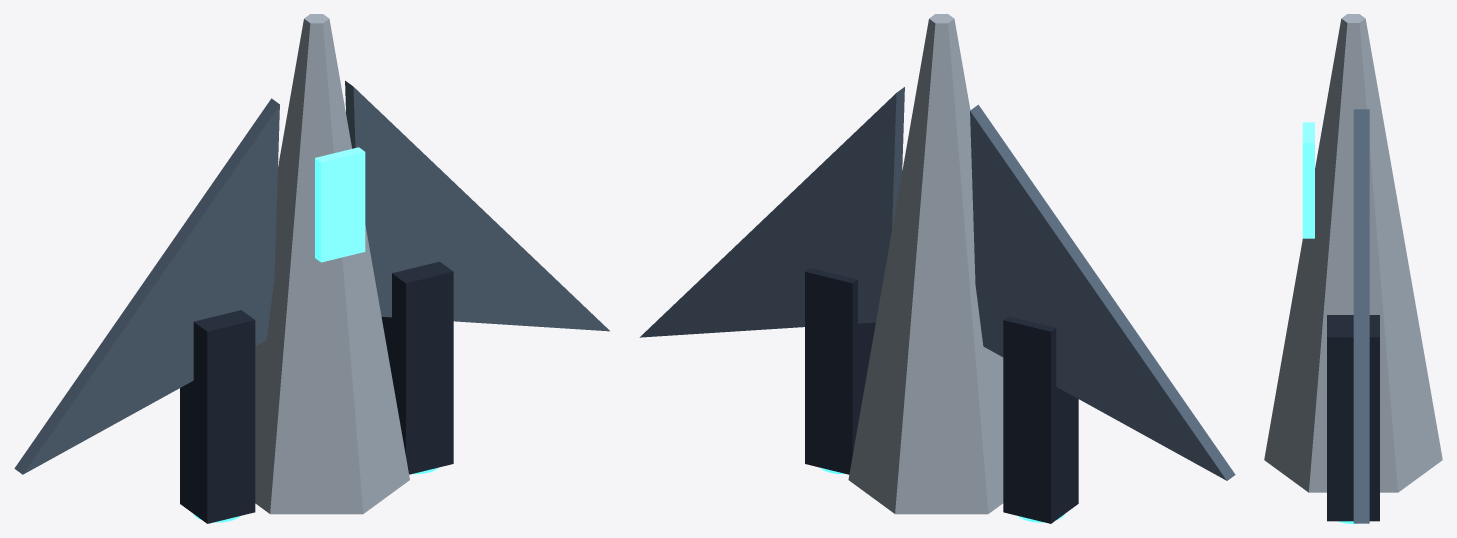
File: starship.glb
3 views of the same model, side by side, from view 1: azimuth 30°, elevation 25°; view 2: azimuth 150°, elevation 25°; view 3: azimuth 270°, elevation 25° (orthographic). The views are drawn at different scales.
Parts seen in each view (by area): view 1: FlightHull, SweptWing, SweptWing.001, EnginePod, EnginePod.001, Cockpit; view 2: FlightHull, SweptWing, SweptWing.001, EnginePod, EnginePod.001; view 3: FlightHull, EnginePod.001, SweptWing.001, Cockpit.
Part boxes in pixels (x1,y1,x2,y2): FlightHull: [255, 14, 409, 514]; SweptWing: [14, 98, 279, 474]; SweptWing.001: [345, 80, 609, 331]; EnginePod: [180, 310, 255, 523]; EnginePod.001: [381, 261, 453, 474]; Cockpit: [315, 147, 365, 262]; FlightHull: [848, 14, 1003, 514]; SweptWing: [970, 104, 1235, 480]; SweptWing.001: [639, 87, 904, 337]; EnginePod: [1003, 316, 1078, 523]; EnginePod.001: [805, 268, 875, 474]; FlightHull: [1264, 14, 1442, 492]; EnginePod.001: [1327, 315, 1379, 521]; SweptWing.001: [1353, 109, 1369, 523]; Cockpit: [1302, 122, 1314, 238].
Size of the model in its own units: 8 by 6.12 by 2.2.
